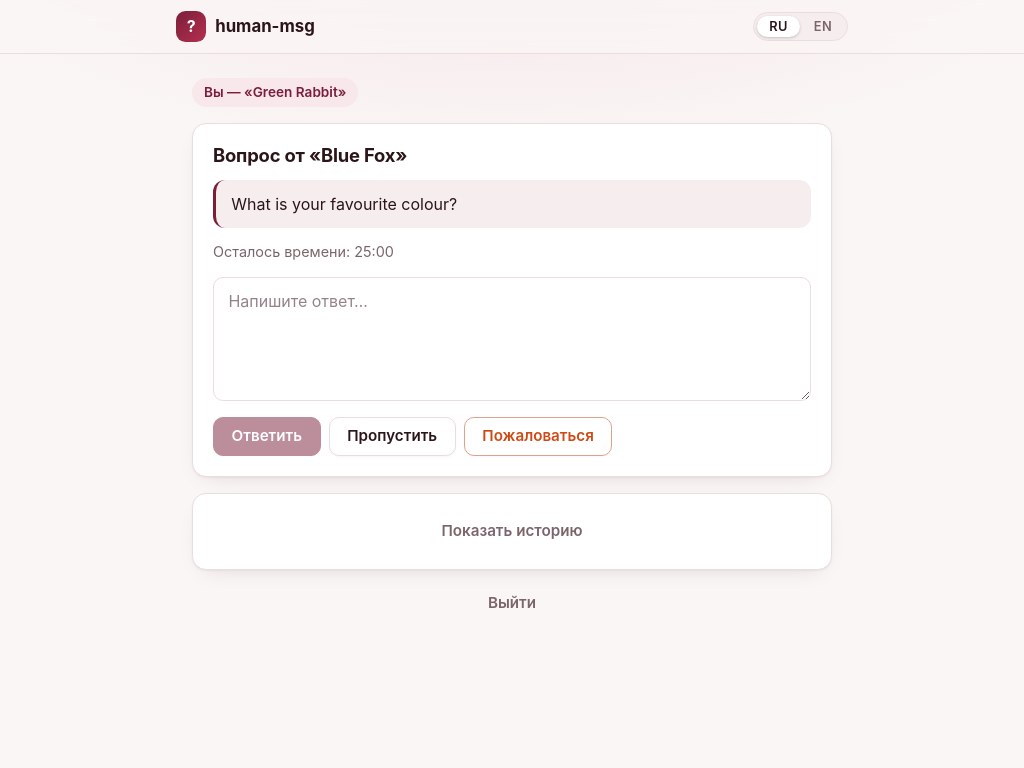
the card of an incoming question › explains a refused answer and keeps the text
This screenshot has width=1024, height=768.
Type "a" into the text box labelled "Напишите ответ…".
click(512, 339); type("a")  # box 213,277 -> 811,401
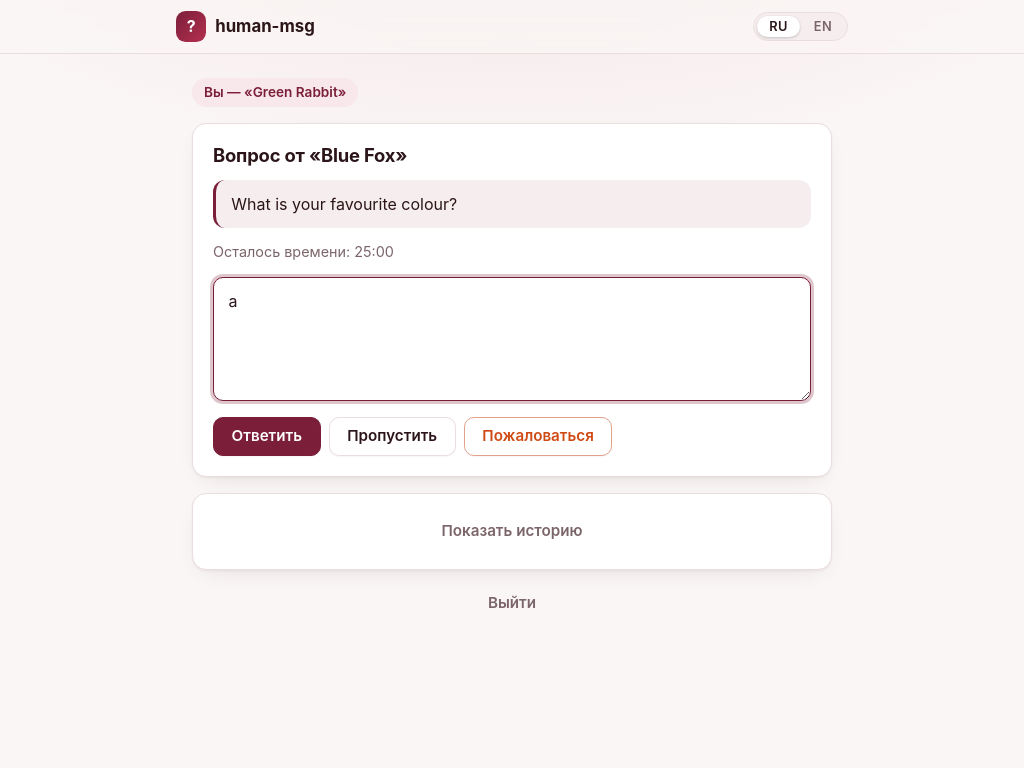
Click the button "Ответить".
click(267, 436)  # box 213,417 -> 321,456
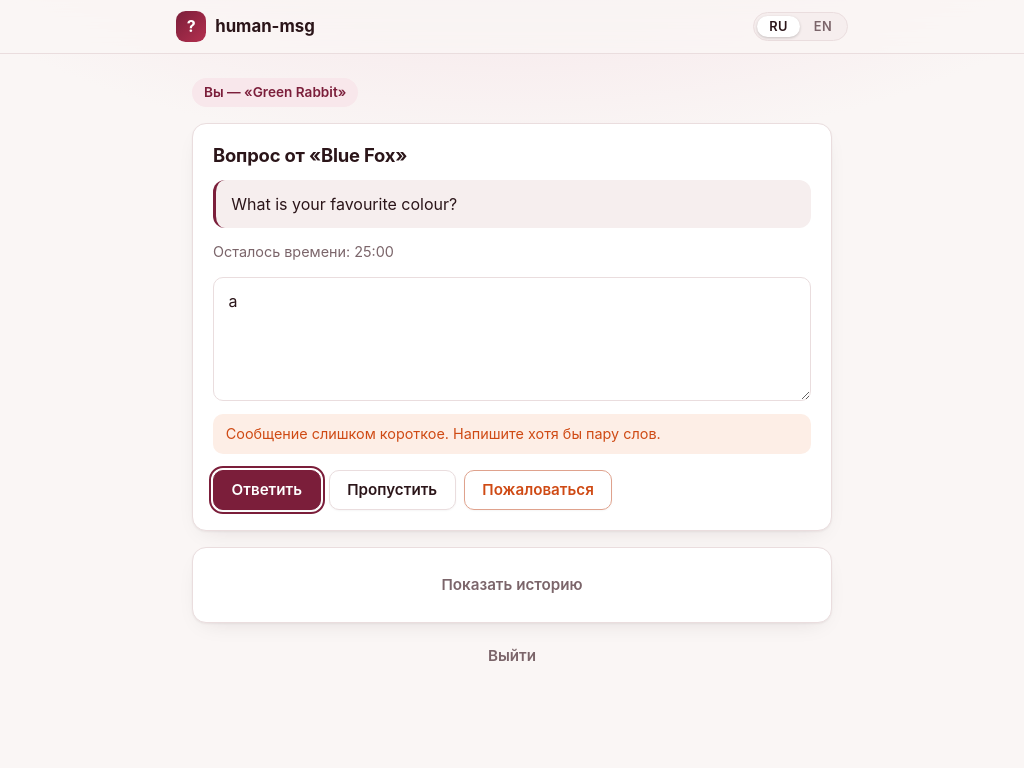
Expected: the message reads "Сообщение слишком короткое. Напишите хотя бы пару слов.", 226,425 -> 661,442
